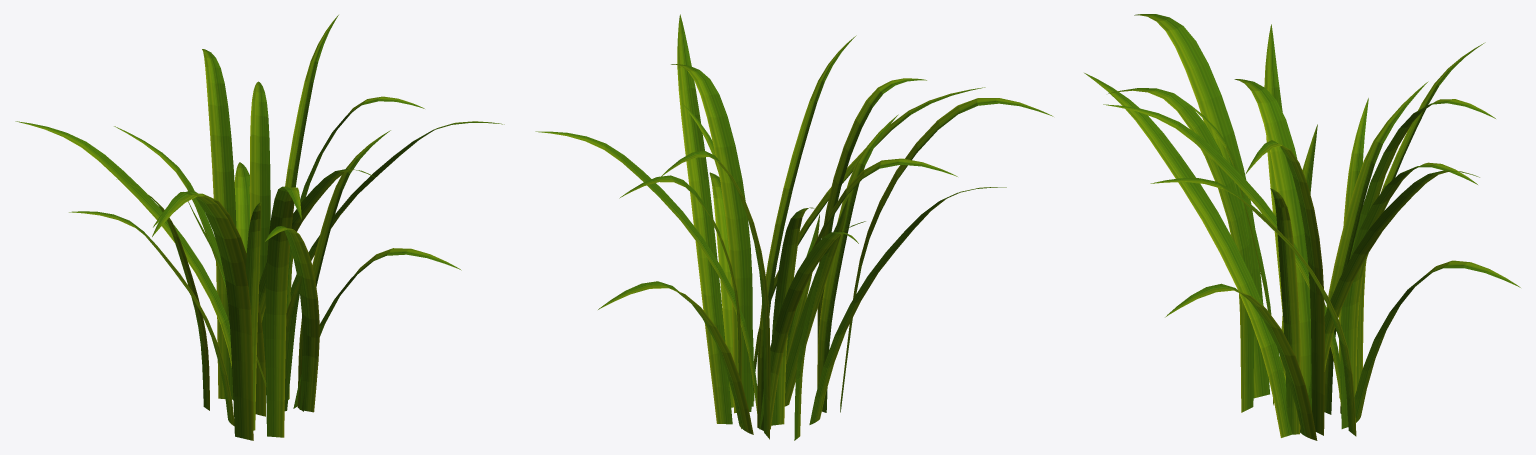
File: newGrass.glb
3 views of the same model, side by side, from view 1: azimuth 30°, elevation 25°; view 2: azimuth 150°, elevation 25°; view 3: azimuth 270°, elevation 25° (orthographic). The views are drawn at different scales.
Visible parts, largest first — view 1: High Grass; view 2: High Grass; view 3: High Grass.
Boxes of the visible parts, x1,y1,x2,y2 form: High Grass: [15, 15, 504, 440]; High Grass: [535, 14, 1053, 440]; High Grass: [1084, 14, 1520, 440].
Bounding box in the file's own units: 0.2624 × 0.1992 × 0.244.
Materials: 1 (1 with a texture image).
